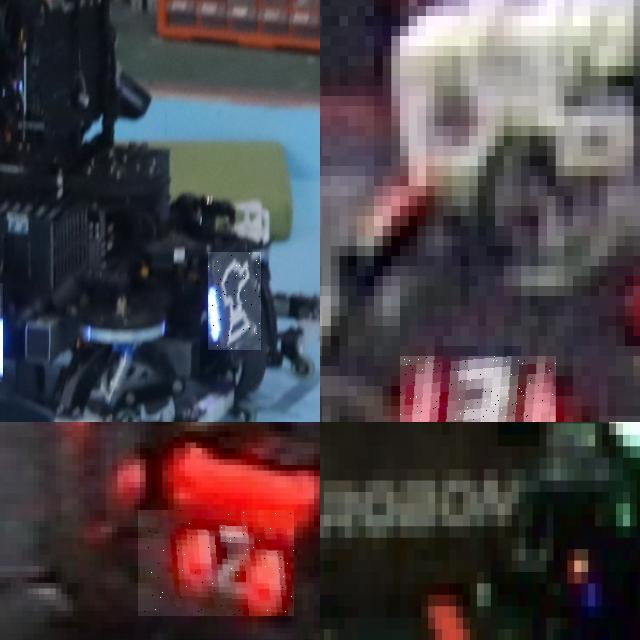Bs: (208, 252, 261, 350)
R2: (138, 510, 294, 616)
R3: (400, 356, 555, 422)
